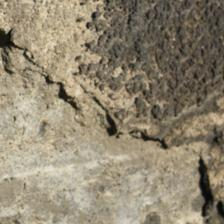Crack: (5, 17, 166, 135)
